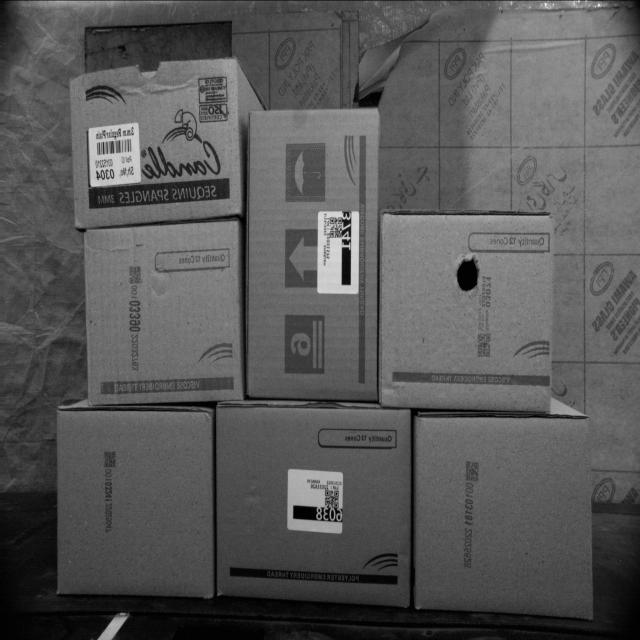cardboxes: (246, 109, 378, 402), (218, 408, 410, 595), (412, 417, 590, 616), (378, 212, 554, 408), (57, 409, 214, 596), (84, 217, 241, 403), (73, 56, 244, 222)
